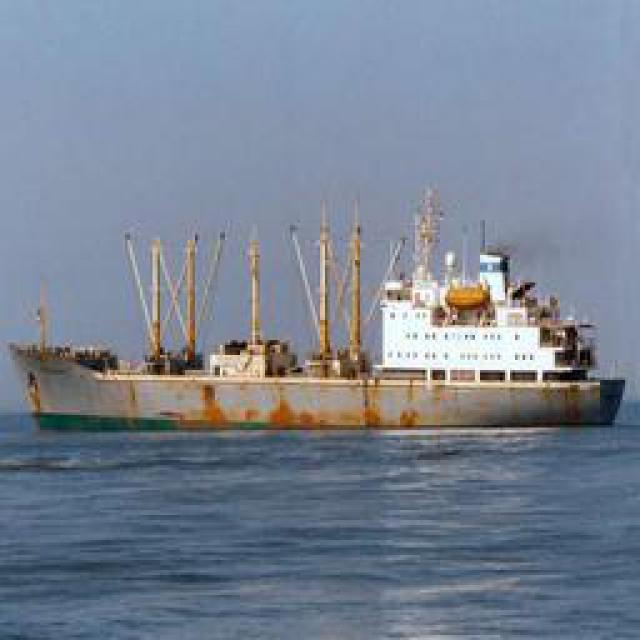Ship: (19, 198, 619, 436)
